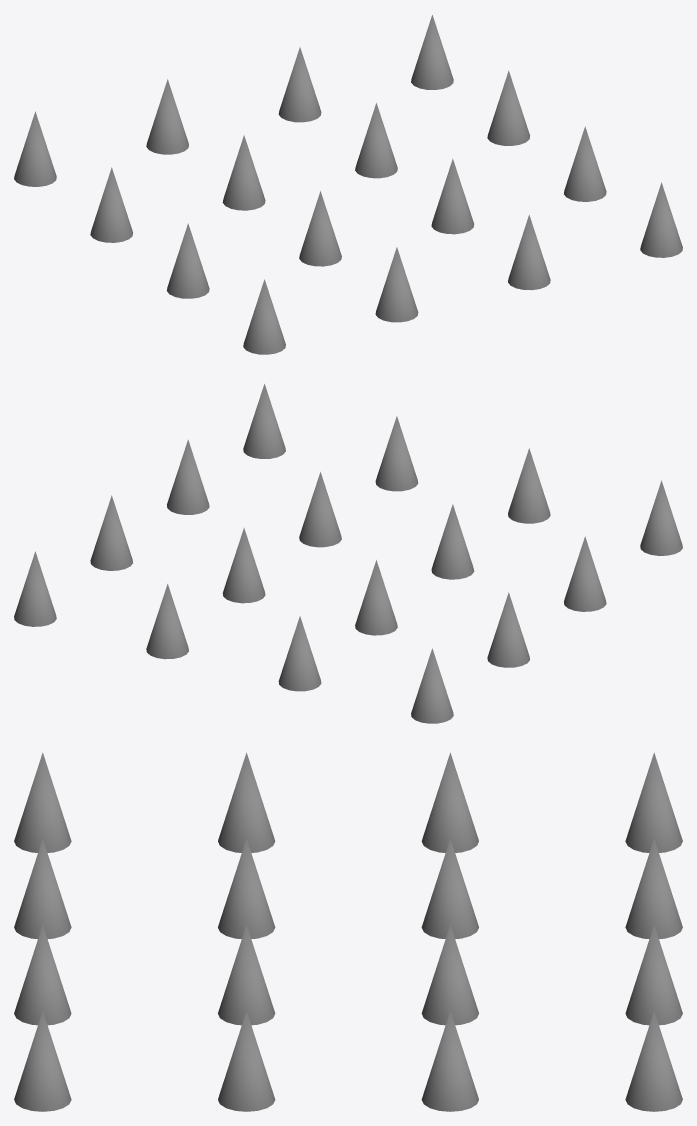
File: Corn.fbx
The picture shows the model from 3 angles, top to bottom: view 1: azimuth 30°, elevation 25°; view 2: azimuth 150°, elevation 25°; view 3: azimuth 270°, elevation 25°; orthographic projection. The views are drawn at different scales.
Parts seen in each view (by area): view 1: Cone.002; view 2: Cone.002; view 3: Cone.002.
Part boxes in pixels (bbox=[...]): Cone.002: bbox=[14, 15, 682, 354]; Cone.002: bbox=[14, 384, 682, 723]; Cone.002: bbox=[14, 752, 682, 1111].
Size of the model in its own units: 68.18 by 10.03 by 68.18.
